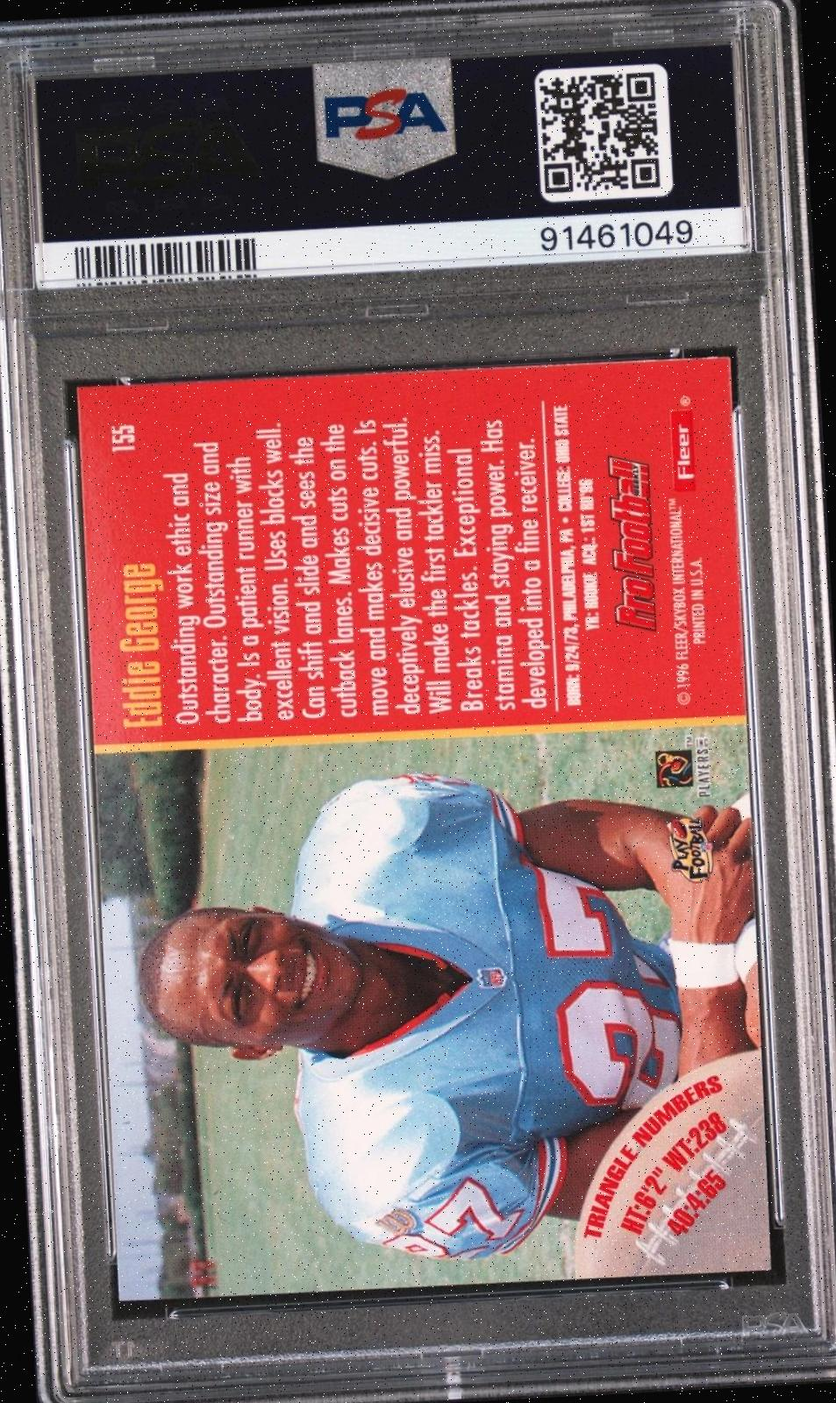card-2UtV: (75, 354, 773, 1302)
